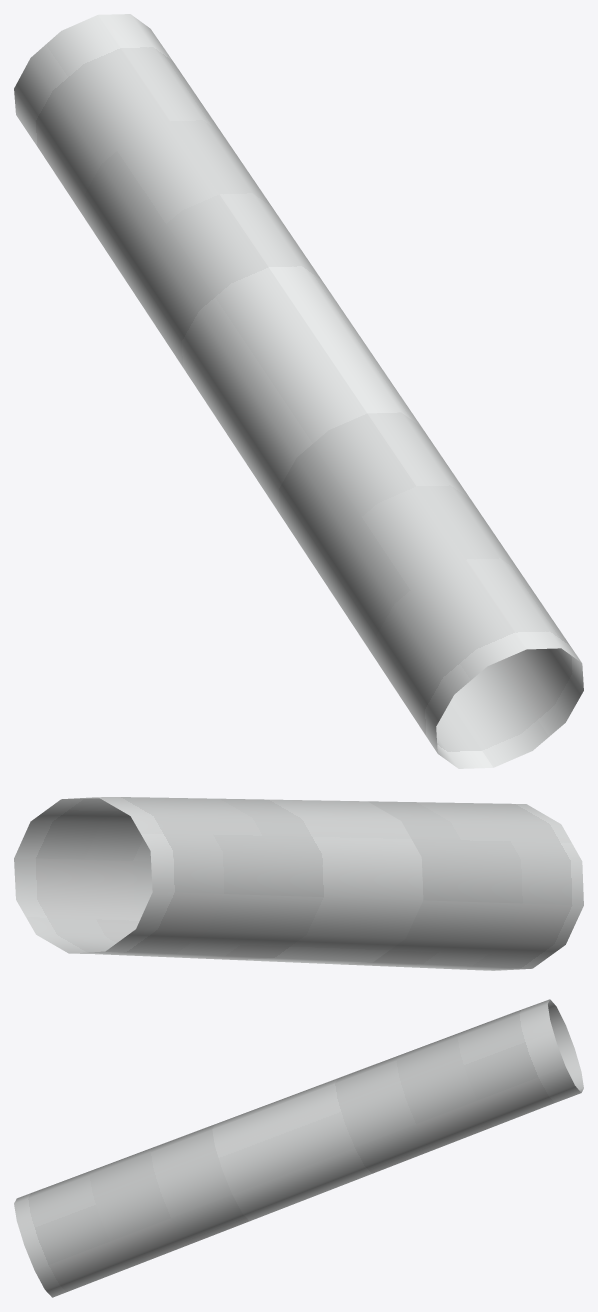
The model's file is luminairearm_caltrans10ftstraightdouble_c3.obj.
The picture shows the model from 3 angles, top to bottom: view 1: azimuth 30°, elevation 25°; view 2: azimuth 150°, elevation 25°; view 3: azimuth 270°, elevation 25°; orthographic projection. The views are drawn at different scales.
Parts seen in each view (by area): view 1: luminairearm_caltrans10ftstraightdouble_c3; view 2: luminairearm_caltrans10ftstraightdouble_c3; view 3: luminairearm_caltrans10ftstraightdouble_c3.
Boxes of the visible parts, x1,y1,x2,y2 form: luminairearm_caltrans10ftstraightdouble_c3: (14, 14, 583, 768); luminairearm_caltrans10ftstraightdouble_c3: (14, 797, 583, 970); luminairearm_caltrans10ftstraightdouble_c3: (14, 999, 583, 1297).
Size of the model in its own units: 0.2 by 0.599 by 1.07.
